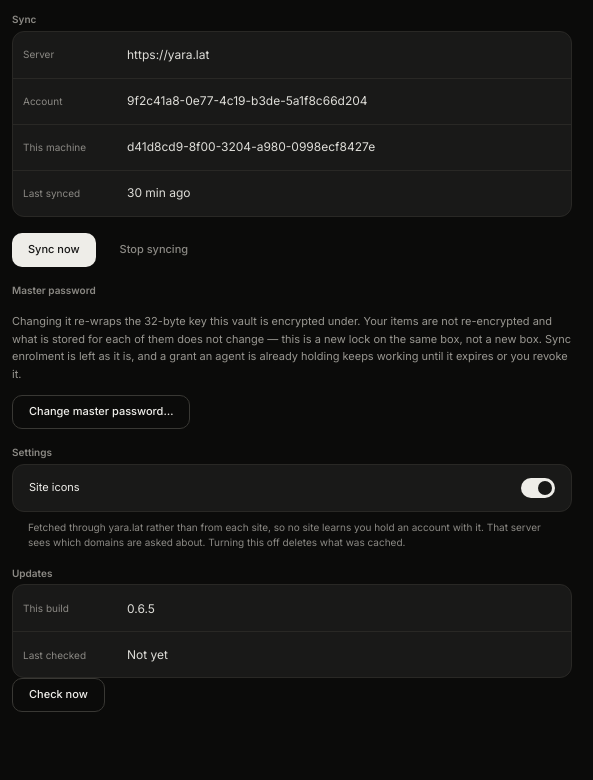
Test: changing the master password › refuses a mismatch without asking the vault to re-key anything
The width and height of the screenshot is (593, 780).
Step 1. Click the button "Change master password…" → (101,412), box [12,395,190,429]
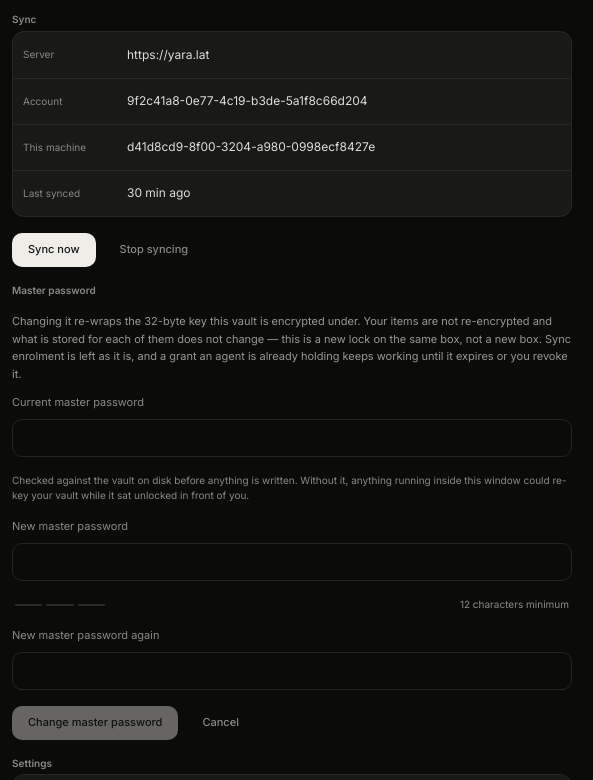
Step 2. Type "the one that opens it" into the password field labelled "Current master password" → (292,438), box [12,419,572,457]
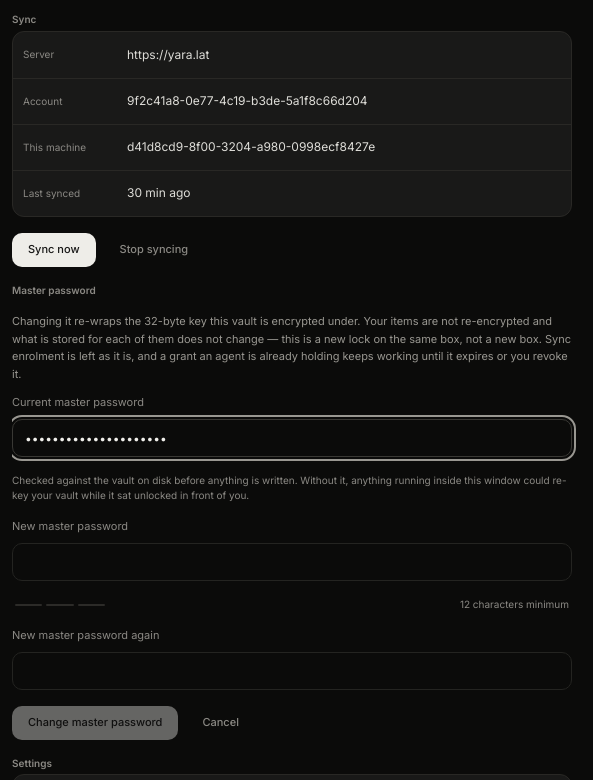
Step 3. Type "correct horse battery 7!" into the password field labelled "New master password" → (292,562), box [12,543,572,581]
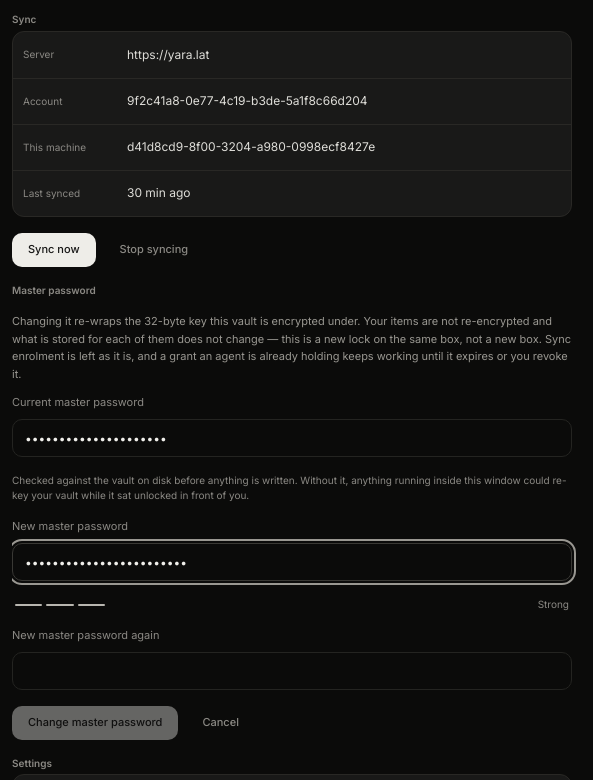
Step 4. Type "correct horse battery 8!" into the password field labelled "New master password again" → (292,671), box [12,652,572,690]
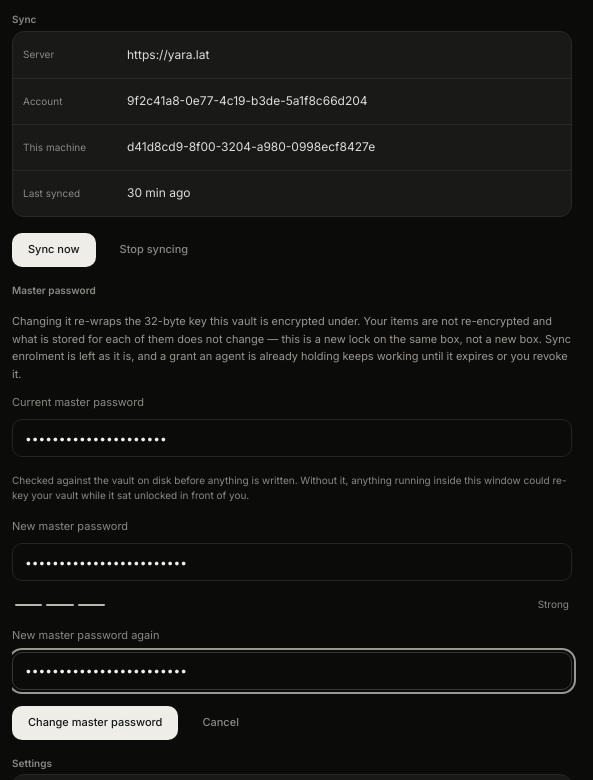
Step 5. Click the button "Change master password" → (95,723), box [12,706,178,740]
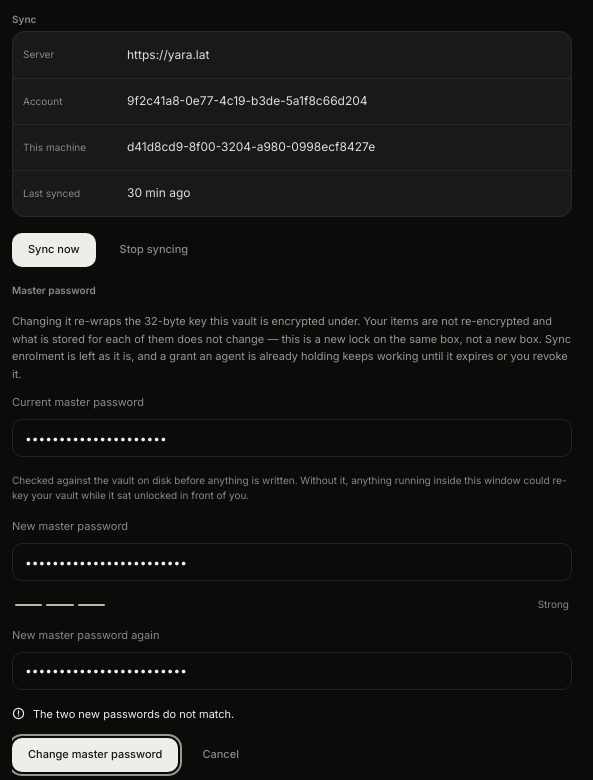
Now the message shows "do not match", box [33,707,234,721]
